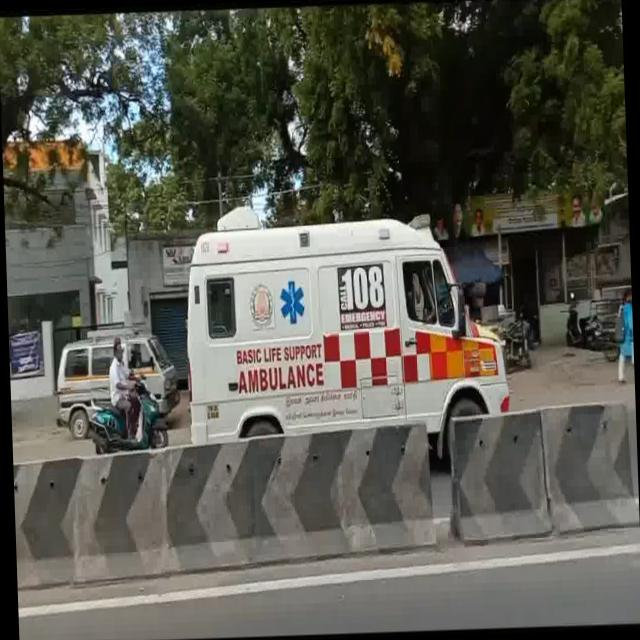ambulance: (179, 206, 511, 421)
